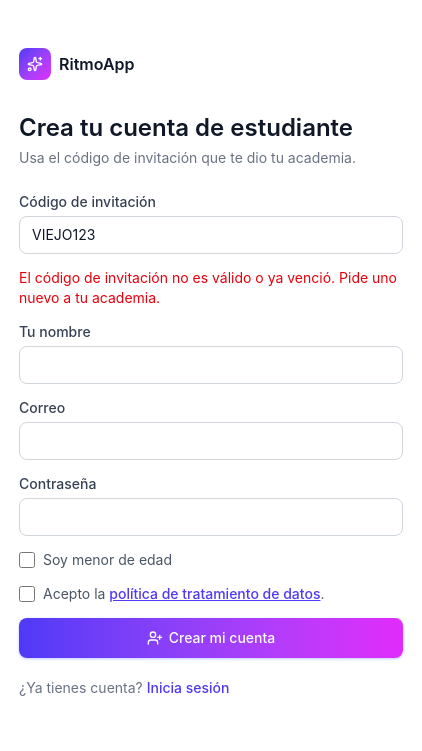
HU-22: registro de estudiantes con código de invitación (pantallas) › CP-231 · HU-22-CA-02: un código que no sirve se explica y la API rechaza el registro
This screenshot has width=422, height=751.
expect the text "Pide uno nuevo a tu academia" is shown: met, box [19,269,397,306]
Type "Sara Ríos" into the field labelled "Tu nombre" at x=211, y=365, box [19,346,403,384]
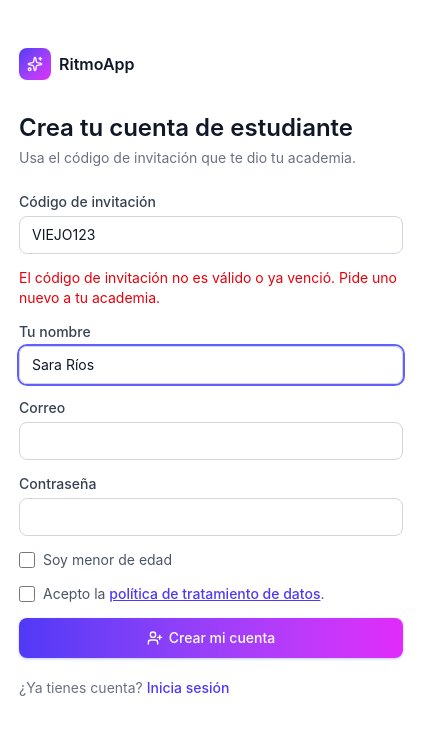
Type "sara@estudiante.test" into the field labelled "Correo" at x=211, y=441, box [19,422,403,460]
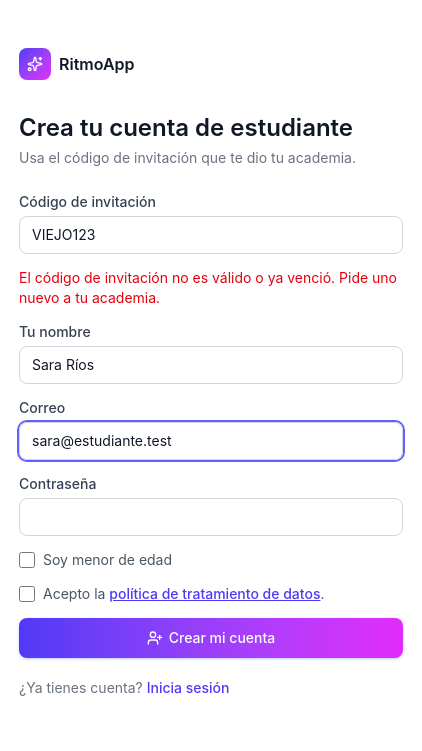
Type "Prueba123!" into the password field labelled "Contraseña" at x=211, y=517, box [19,498,403,536]
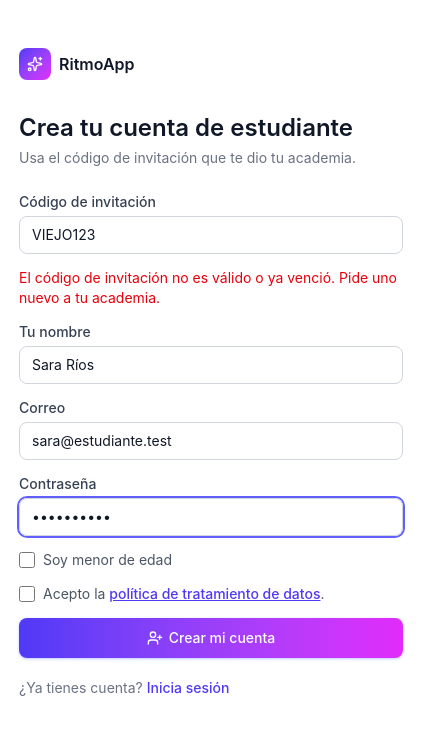
Click the checkbox labelled "Acepto la política de tratamiento de datos ." at x=27, y=594, box [19,586,35,602]
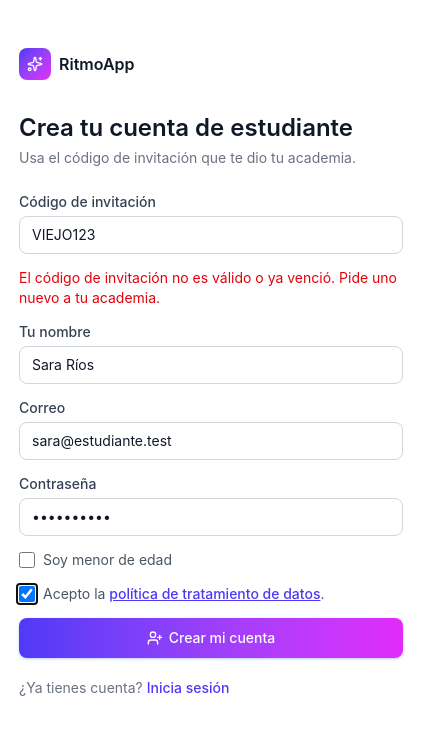
Click the button "Crear mi cuenta" at x=211, y=638, box [19,618,403,658]
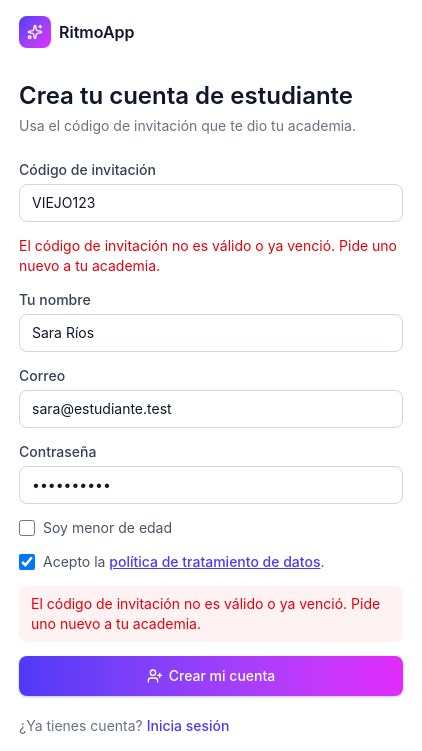
expect the message shows "no es válido o ya venció": met, box [31,595,380,632]
